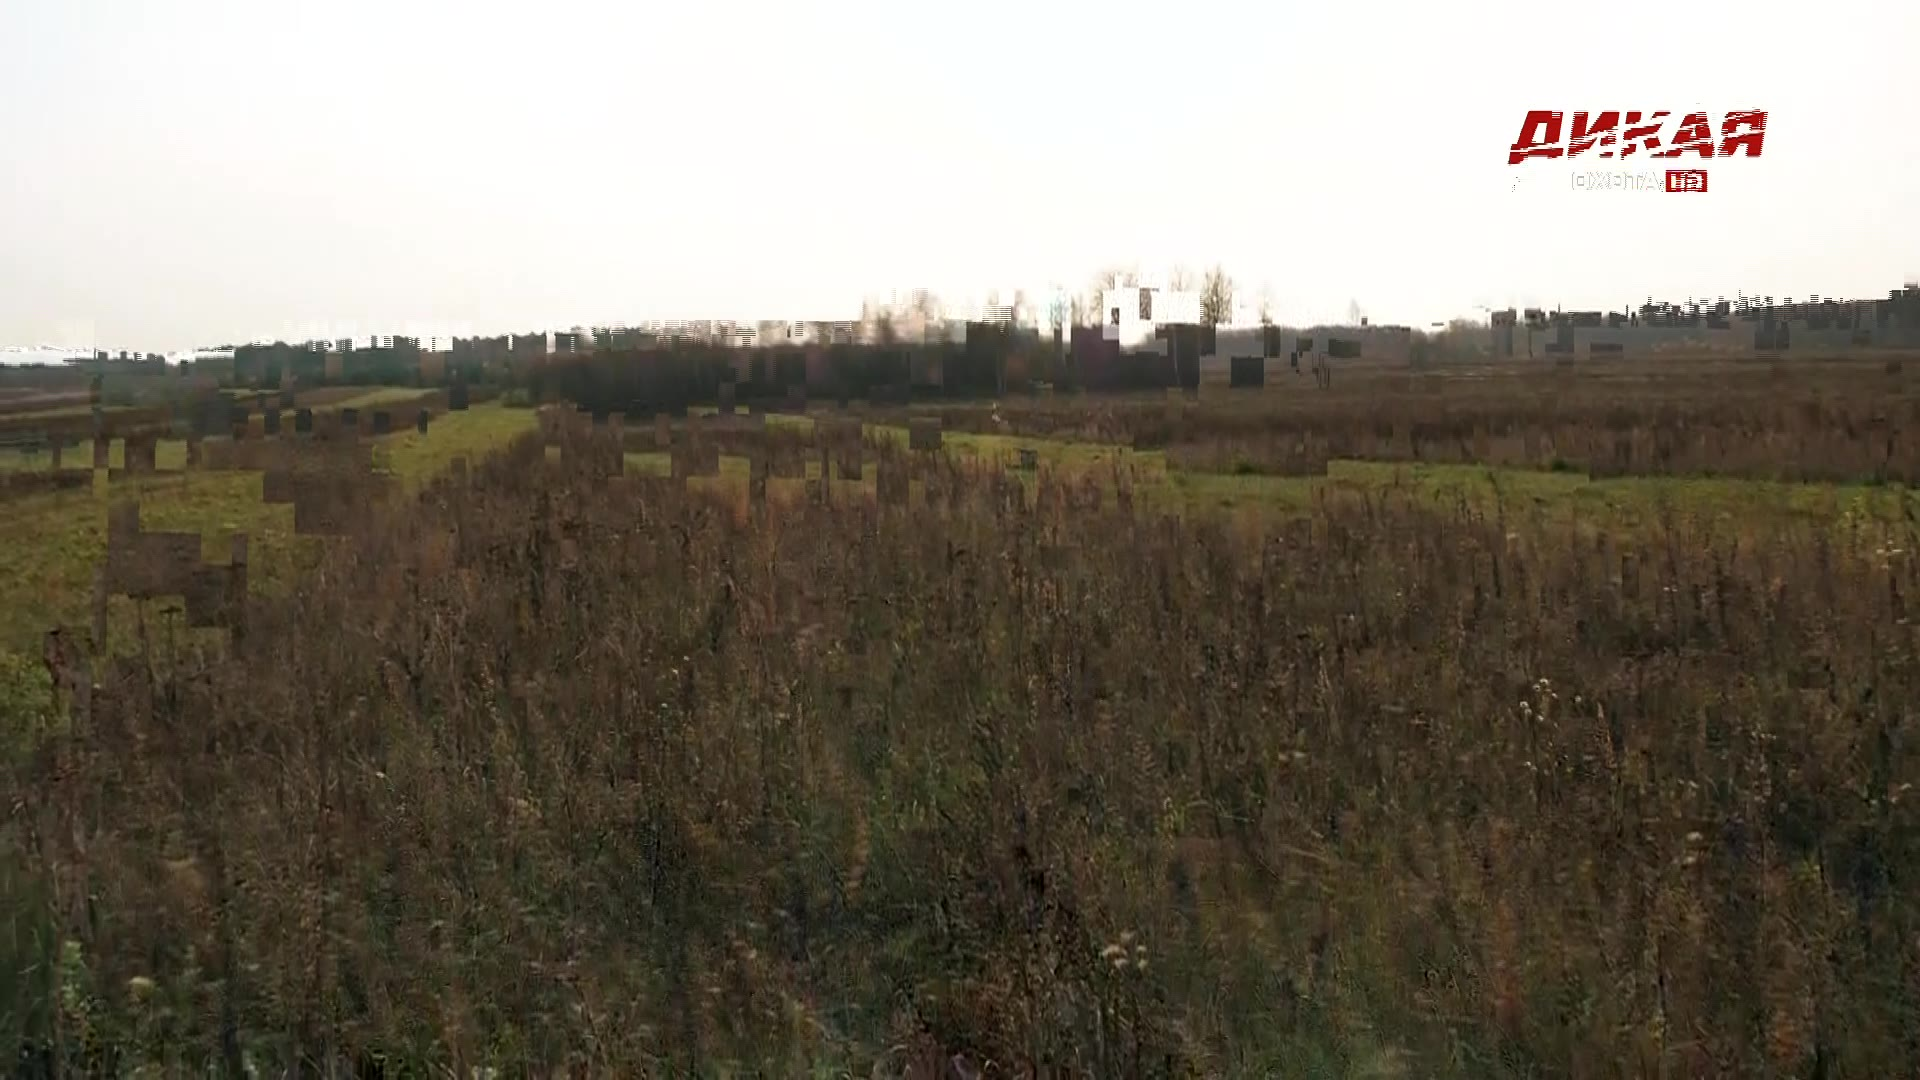Dikaya_Ohota_HD: (1506, 105, 1774, 194)
